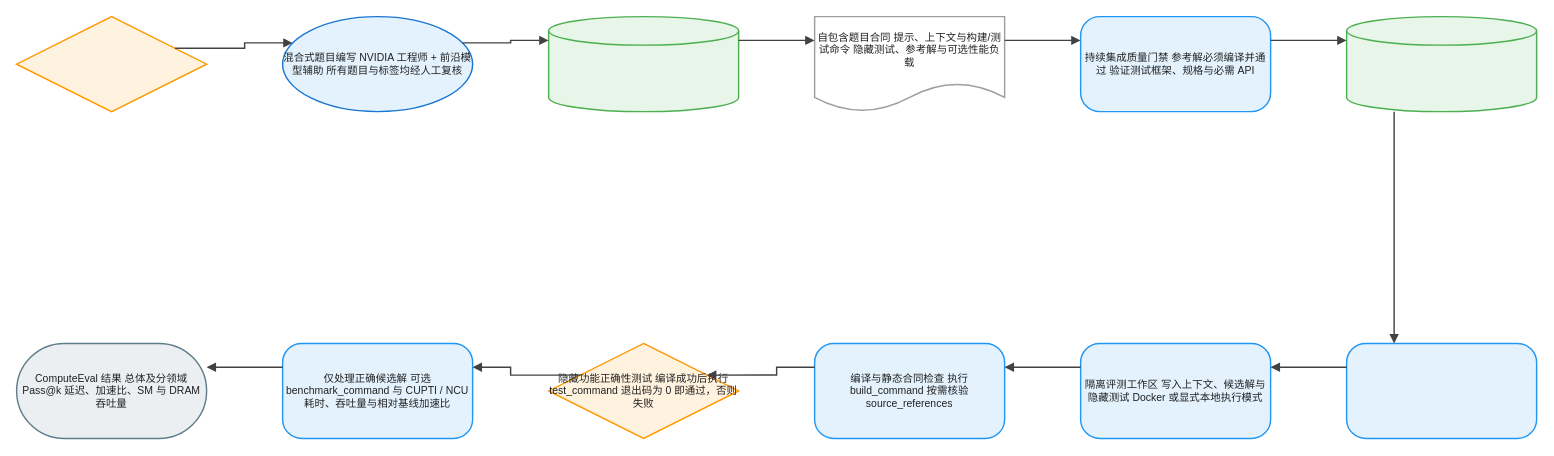
The diagram is 1554 pixels wide and 456 high, and some of its shapes have lost their labels. The shapes that lost their labels are listed below. From the top down, each one's centre as x and y in pixels, then its label:
the point at 111,63: 证据边界 未发现独立 ComputeEval 论文 采用 NVIDIA 博客、官方仓库与数据卡
the point at 643,63: 七个 CUDA 领域组 518 道 CUDA C++ + 48 道 CUDA Python Runtime / Kernel / GPU 库 / cuTile
the point at 1441,63: 版本化 2026.1 数据包 566 道题覆盖 7 个领域组 其中 499 道带性能负载
the point at 1441,390: 生成阶段可见信息 提示、上下文、构建与硬件要求 隐藏测试和参考解不可见
